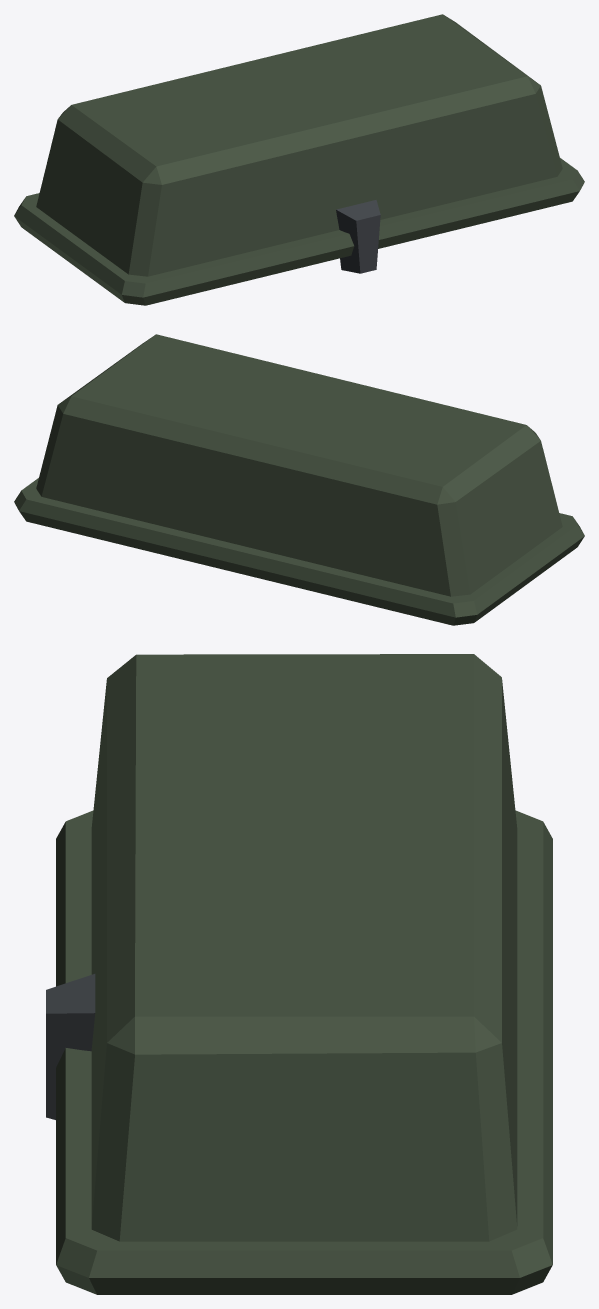
Rendered from SM_Prop_Crate_Tuckbox_Lid_01.glb.
3 renders of one model, top to bottom at view 1: azimuth 30°, elevation 25°; view 2: azimuth 150°, elevation 25°; view 3: azimuth 270°, elevation 25°, orthographic. The views are drawn at different scales.
Parts seen in each view (by area): view 1: SM_Prop_Crate_Tuckbox_Lid_01; view 2: SM_Prop_Crate_Tuckbox_Lid_01; view 3: SM_Prop_Crate_Tuckbox_Lid_01.
Boxes of the visible parts, x1,y1,x2,y2 form: SM_Prop_Crate_Tuckbox_Lid_01: (14,14,584,305); SM_Prop_Crate_Tuckbox_Lid_01: (14,334,584,625); SM_Prop_Crate_Tuckbox_Lid_01: (46,654,552,1294).
Size of the model in its own units: 0.9651 by 0.278 by 0.4571.
1 material, 1 textured.
